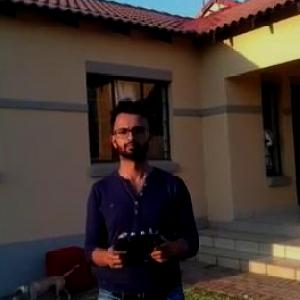follow: (80, 96, 204, 299)
null: (10, 256, 84, 299)
